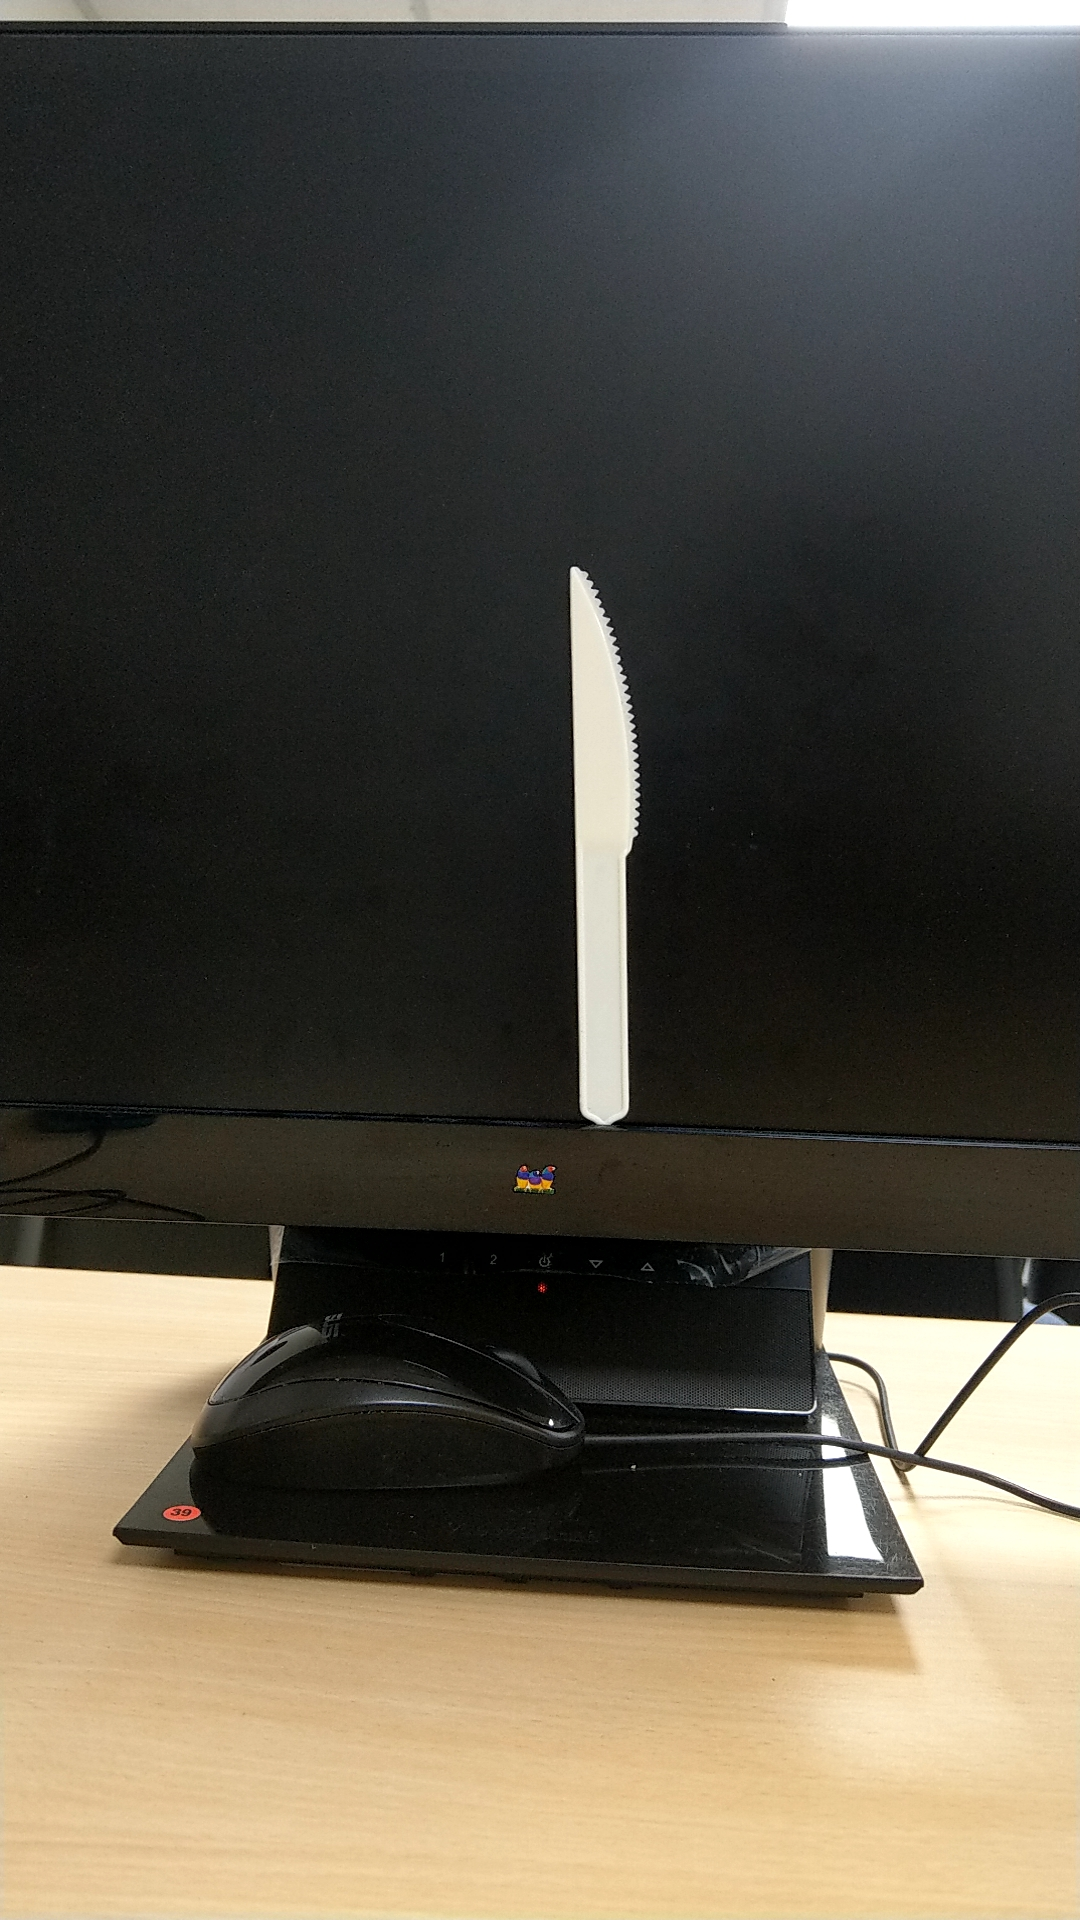knife: (534, 543, 662, 1129)
